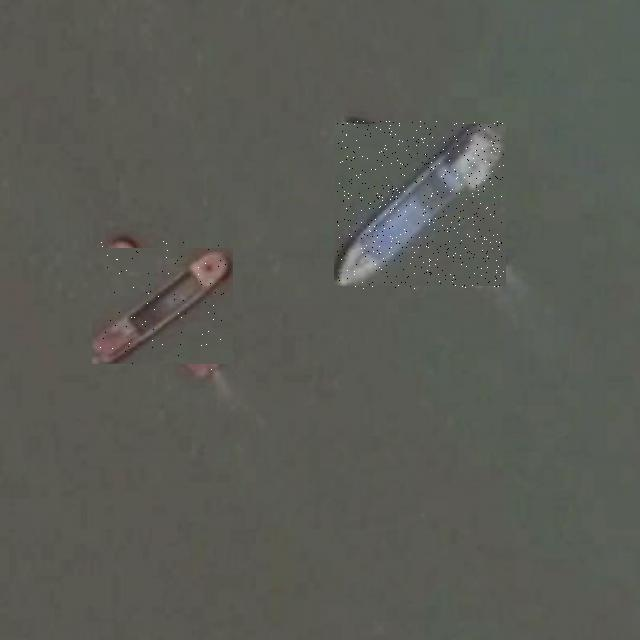boat: (337, 121, 504, 289), (98, 241, 226, 371)
